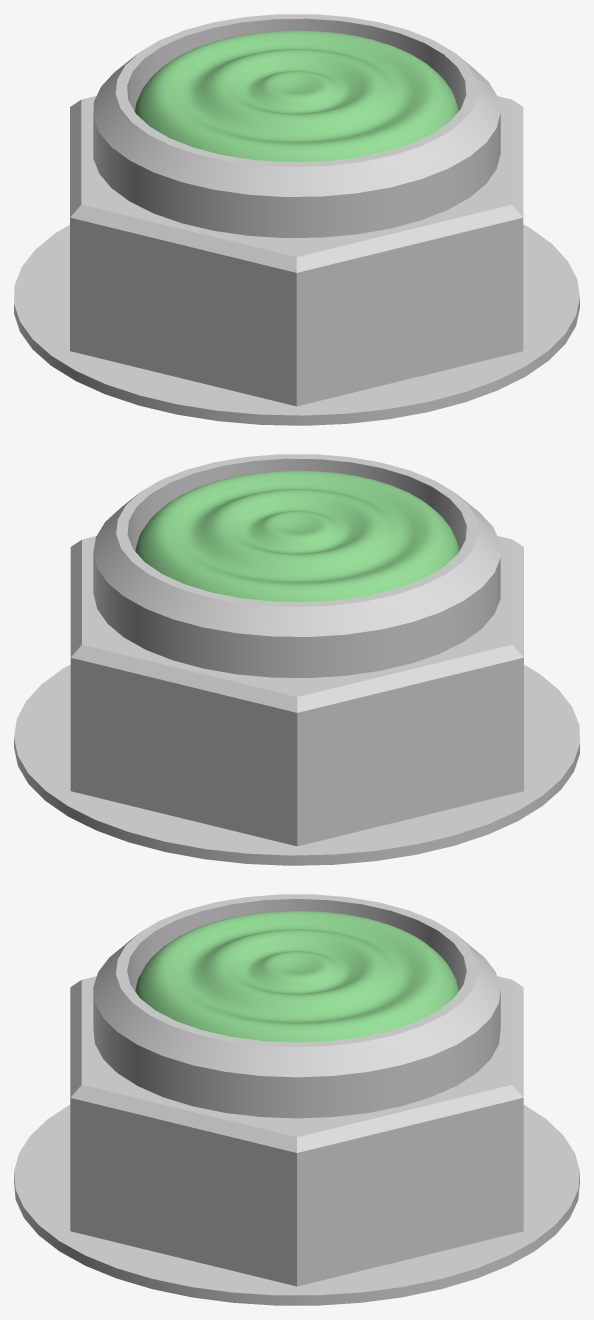
The model's file is button-3-f.obj.
3 views of the same model, one above another, from view 1: azimuth 30°, elevation 25°; view 2: azimuth 150°, elevation 25°; view 3: azimuth 270°, elevation 25° (orthographic).
Visible parts, largest first — view 1: Body, Movable; view 2: Body, Movable; view 3: Body, Movable.
Boxes of the visible parts, x1,y1,x2,y2 form: Body: (14,14,579,425); Movable: (134,30,458,161); Body: (14,454,579,865); Movable: (135,470,459,601); Body: (14,894,579,1305); Movable: (135,910,458,1042).
Bounding box in the file's own units: 4.99 × 2.17 × 5.
